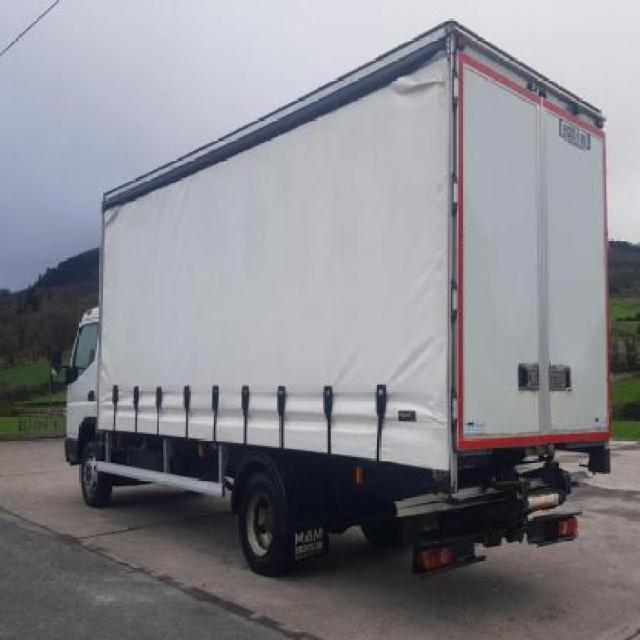truck: (53, 23, 610, 577)
